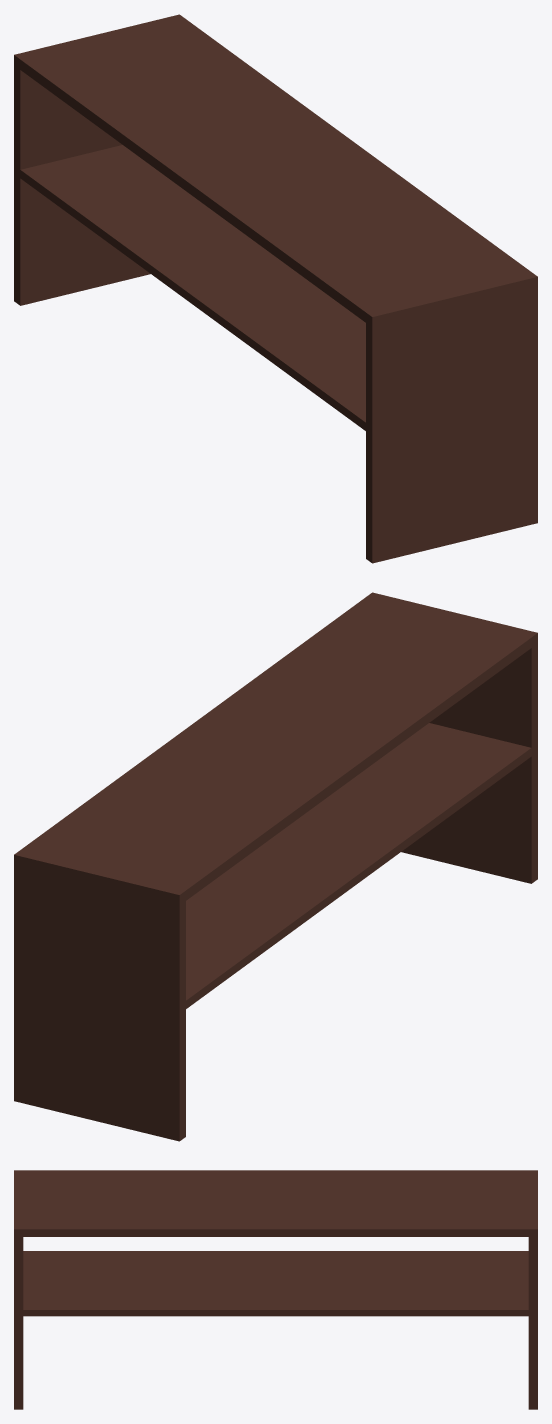
The model's file is ShelfShort.fbx.
3 renders of one model, top to bottom at view 1: azimuth 30°, elevation 25°; view 2: azimuth 150°, elevation 25°; view 3: azimuth 270°, elevation 25°, orthographic. The views are drawn at different scales.
Parts seen in each view (by area): view 1: ShelfSmall; view 2: ShelfSmall; view 3: ShelfSmall.
Part boxes in pixels (<box>): ShelfSmall: <box>14,14,537,563</box>; ShelfSmall: <box>14,592,537,1141</box>; ShelfSmall: <box>14,1170,537,1409</box>.
Bounding box in the file's own units: 0.6974 × 0.9914 × 2.61.
